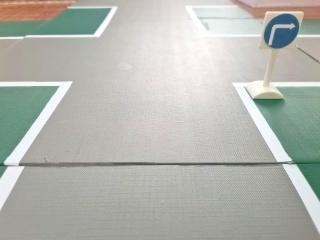right: (259, 8, 305, 56)
